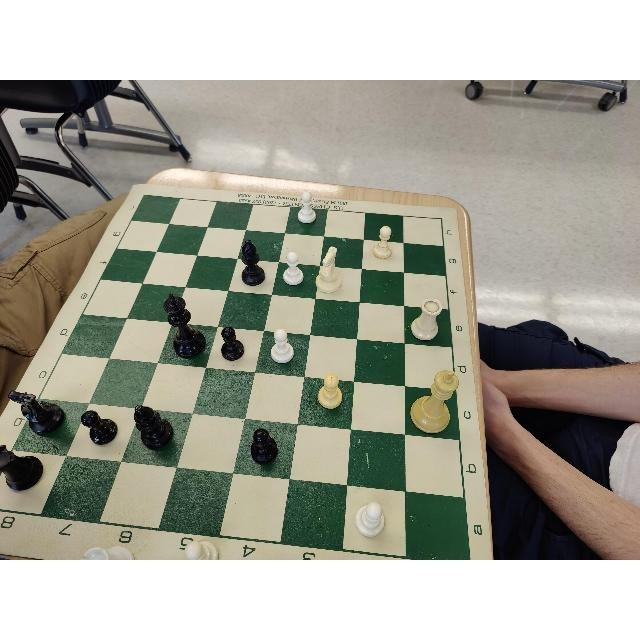black-bishop: (133, 404, 174, 451), (239, 237, 264, 287)
black-king: (163, 293, 207, 359)
black-knight: (8, 390, 66, 435)
black-pawn: (81, 410, 117, 445), (250, 429, 278, 465), (221, 326, 244, 360)
black-rook: (1, 444, 43, 492)
white-knight: (410, 370, 458, 434), (316, 246, 341, 293)
white-pawn: (355, 502, 385, 538), (270, 329, 295, 365), (317, 375, 342, 409), (281, 250, 304, 285), (372, 225, 393, 261), (297, 192, 316, 224)
white-rook: (412, 299, 442, 341)
